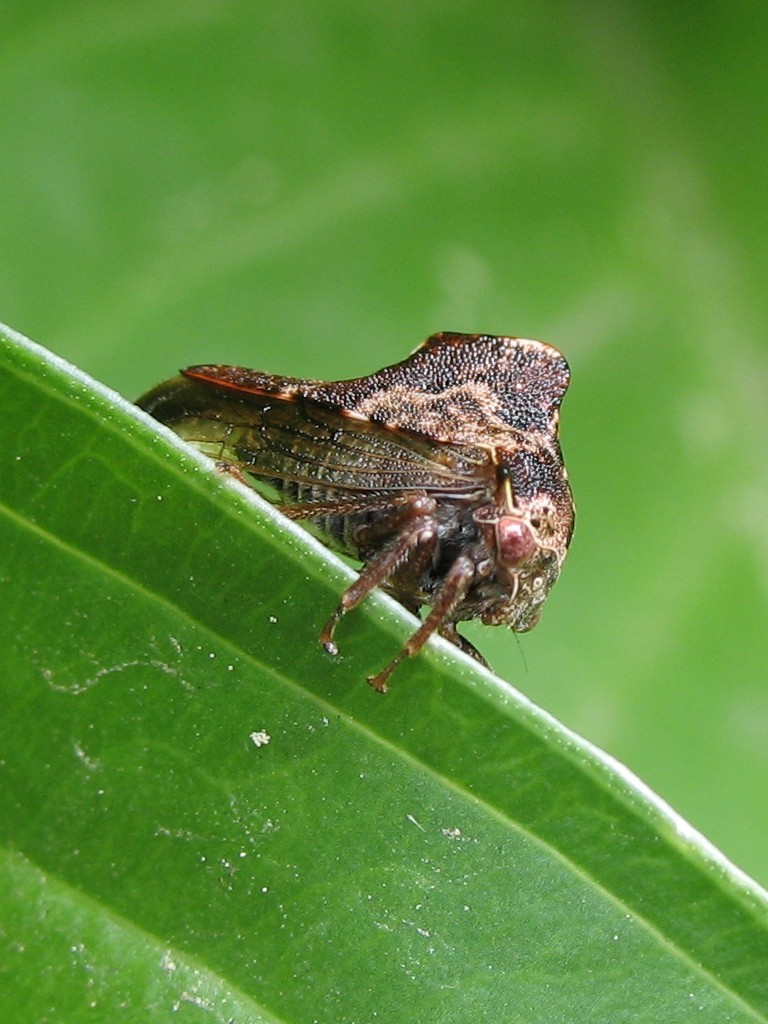person: (315, 406, 573, 680)
